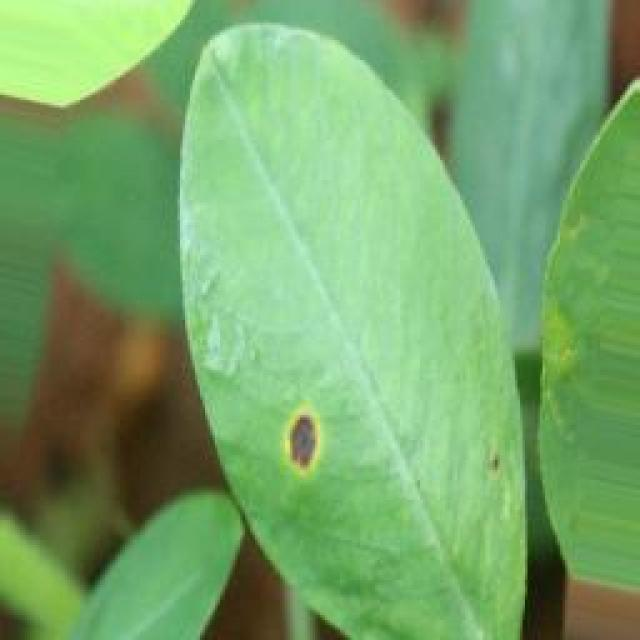Sigatoka: (248, 399, 354, 511), (467, 446, 517, 494)
